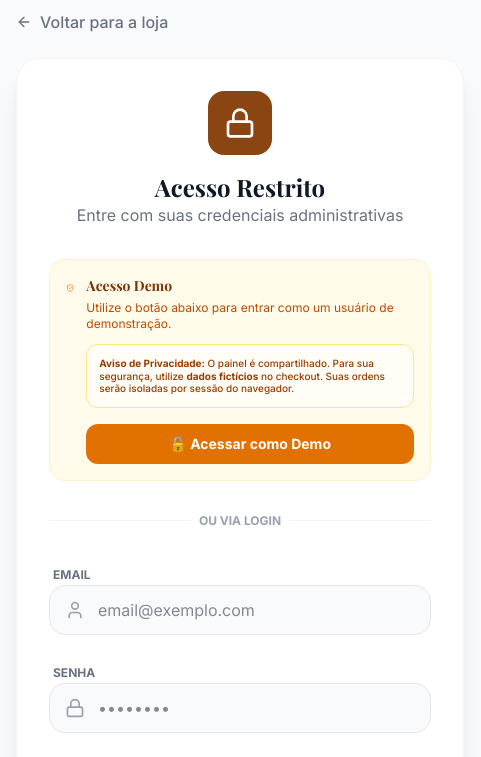
Login Page › should show error message on failed login
Type "test@test.com" into the field with placeholder "email@exemplo.com".
click(240, 610); type("test@test.com")  # box [49, 584, 431, 634]
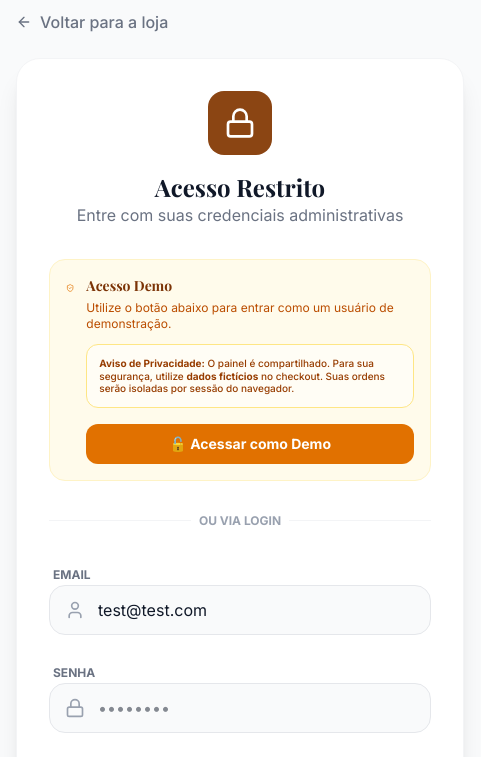
Type "password" into the password field with placeholder "••••••••".
click(240, 708); type("password")  # box [49, 682, 431, 732]
(page scrolled)
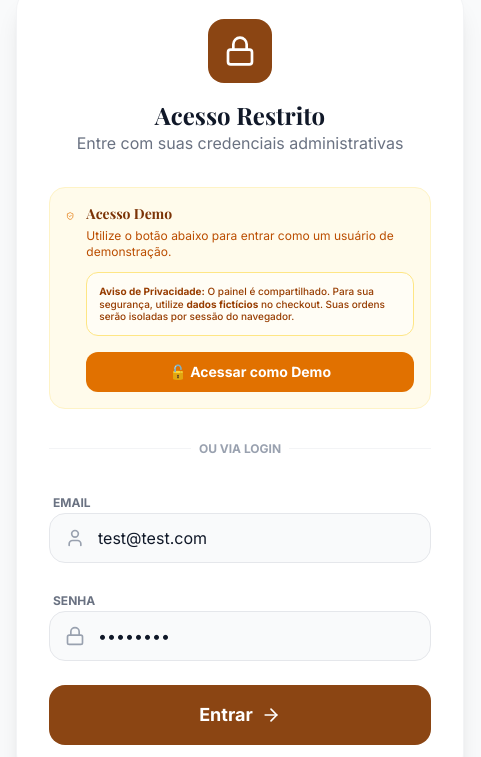
Click the button "Entrar".
click(240, 714)  # box [49, 684, 431, 744]
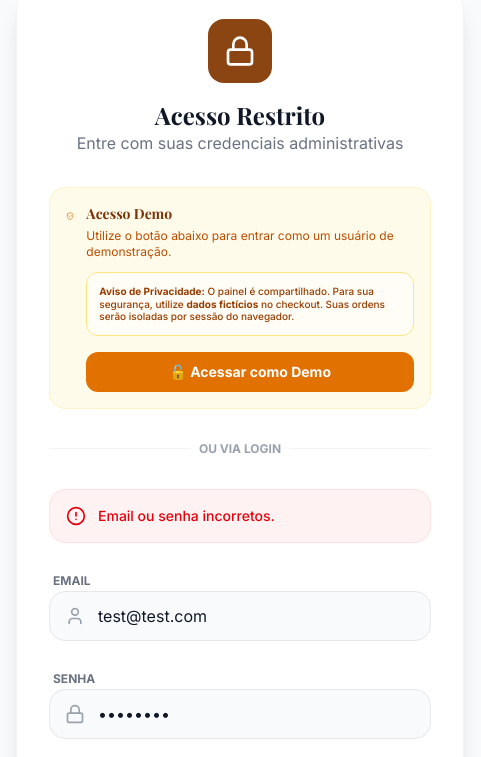
Check: the text "Email ou senha incorretos." is shown, box [49, 488, 431, 542]
